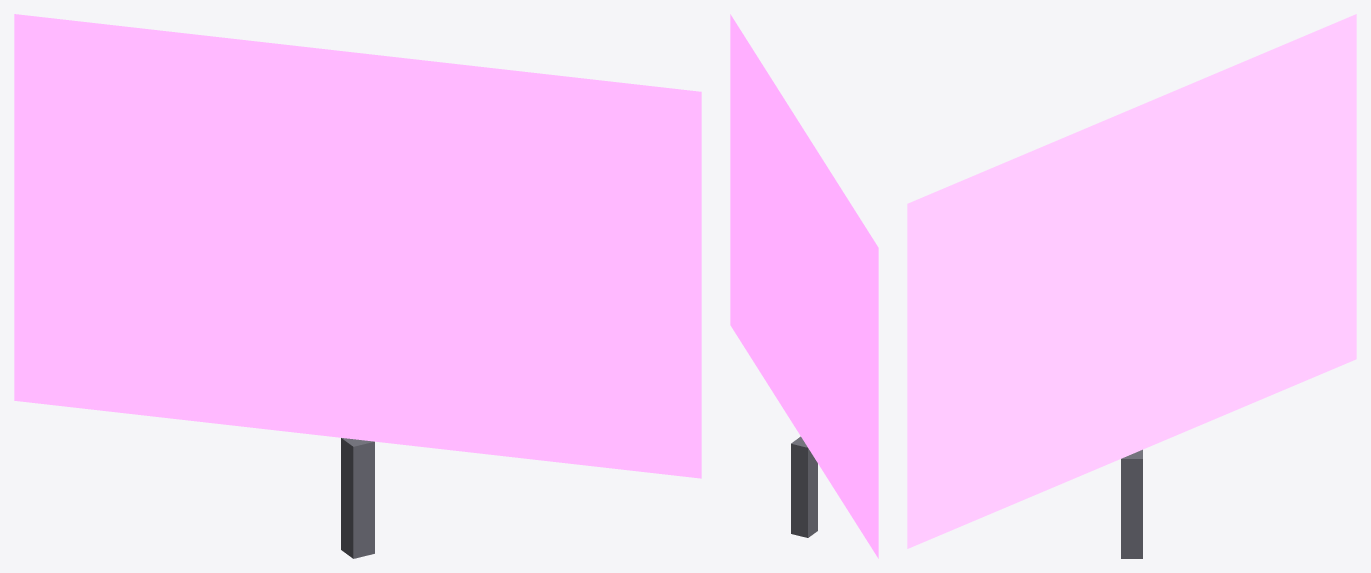
The model's file is holo_billboard_panel.glb.
3 views of the same model, side by side, from view 1: azimuth 30°, elevation 25°; view 2: azimuth 150°, elevation 25°; view 3: azimuth 270°, elevation 25° (orthographic). The views are drawn at different scales.
Parts seen in each view (by area): view 1: holo_billboard_panel; view 2: holo_billboard_panel; view 3: holo_billboard_panel.
Boxes of the visible parts, left/top/right/bottom form: holo_billboard_panel: left=14, top=14, right=701, bottom=558; holo_billboard_panel: left=730, top=14, right=878, bottom=558; holo_billboard_panel: left=907, top=14, right=1356, bottom=558.
Bounding box in the file's own units: 4.07 × 4.45 × 4.07.
